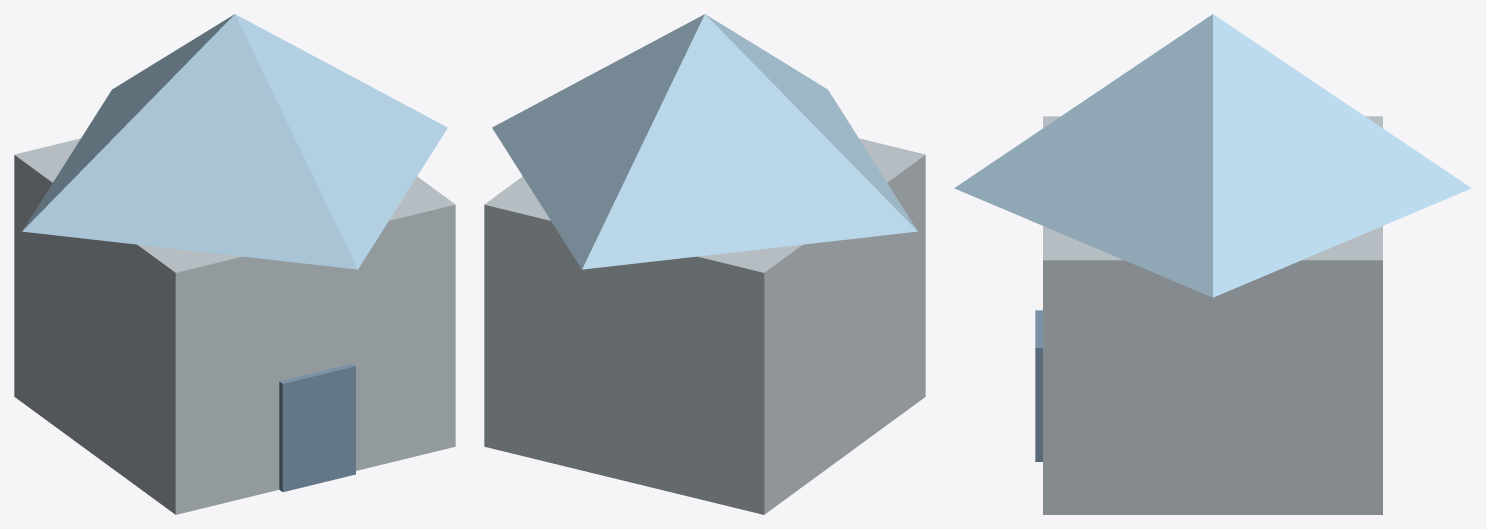
Rendered from vault.gltf.
The picture shows the model from 3 angles, left to right: view 1: azimuth 30°, elevation 25°; view 2: azimuth 150°, elevation 25°; view 3: azimuth 270°, elevation 25°; orthographic projection. The views are drawn at different scales.
Size of the model in its own units: 3.5 by 3.2 by 3.5.
